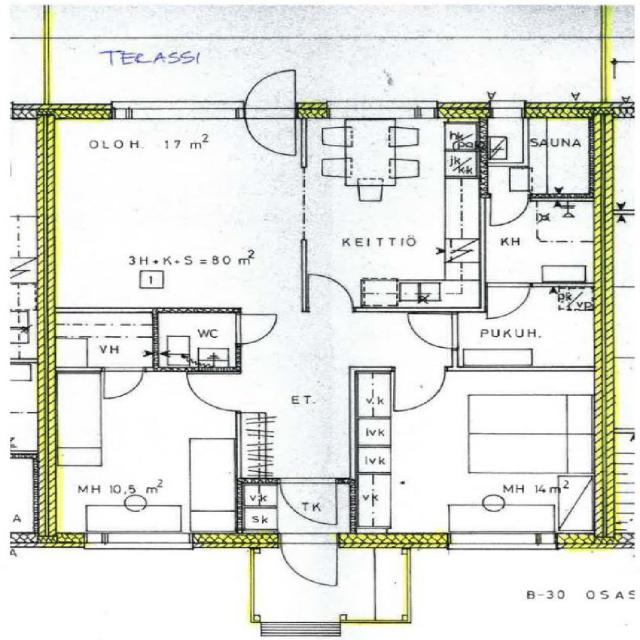door: (281, 534, 336, 590), (244, 102, 294, 156), (280, 478, 336, 525), (244, 65, 294, 117), (395, 366, 444, 409), (186, 374, 241, 412), (407, 314, 458, 348), (308, 274, 352, 312), (486, 282, 530, 320), (235, 314, 281, 344), (103, 366, 142, 401), (491, 193, 528, 229)
